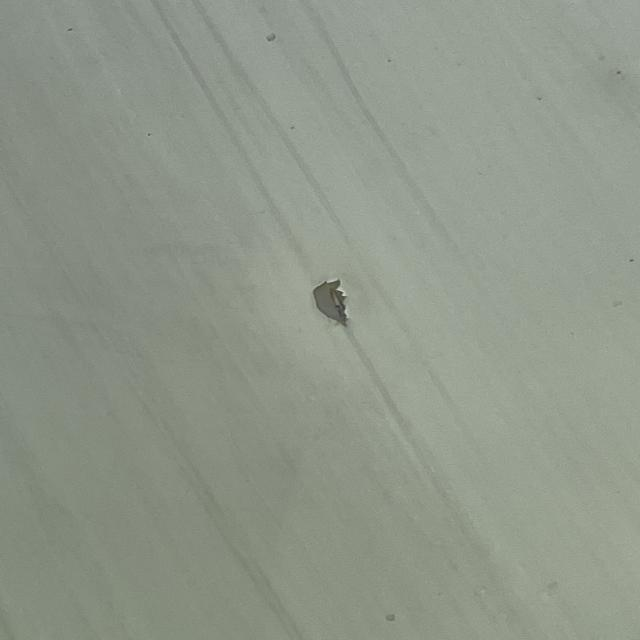crack: (316, 267, 386, 344)
